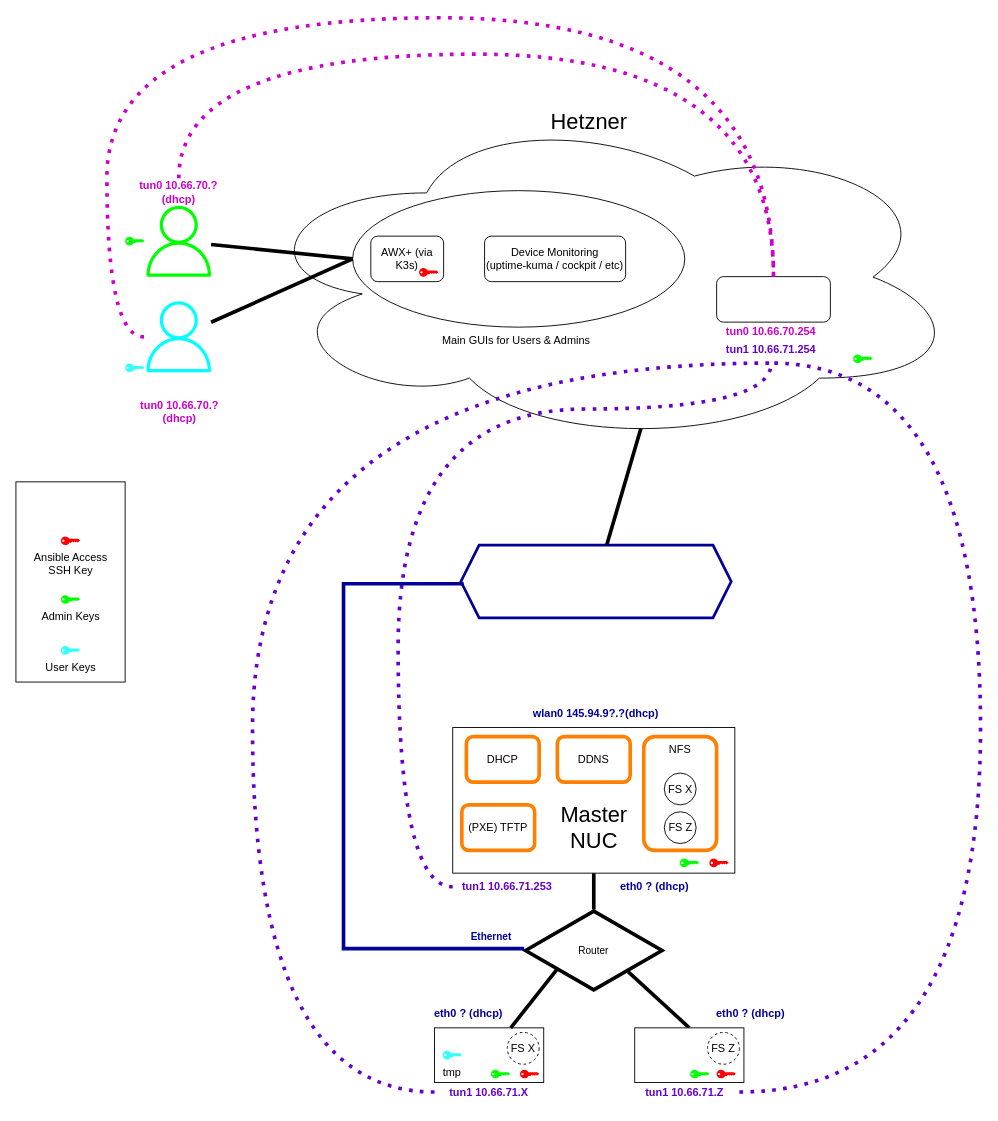
The diagram is 998 pixels wide and 1121 high, and some of its shapes have lost their labels. Each missing label, with the box of its shape:
Admins: (142, 205, 214, 277)
LEGEND: (15, 481, 125, 682)
Pi X: (434, 1027, 544, 1082)
Pi Z: (634, 1027, 744, 1082)
TU Delft Network ? (DHCP): (459, 543, 732, 619)
VPN (OpenVPN) Servers: (716, 276, 830, 322)
